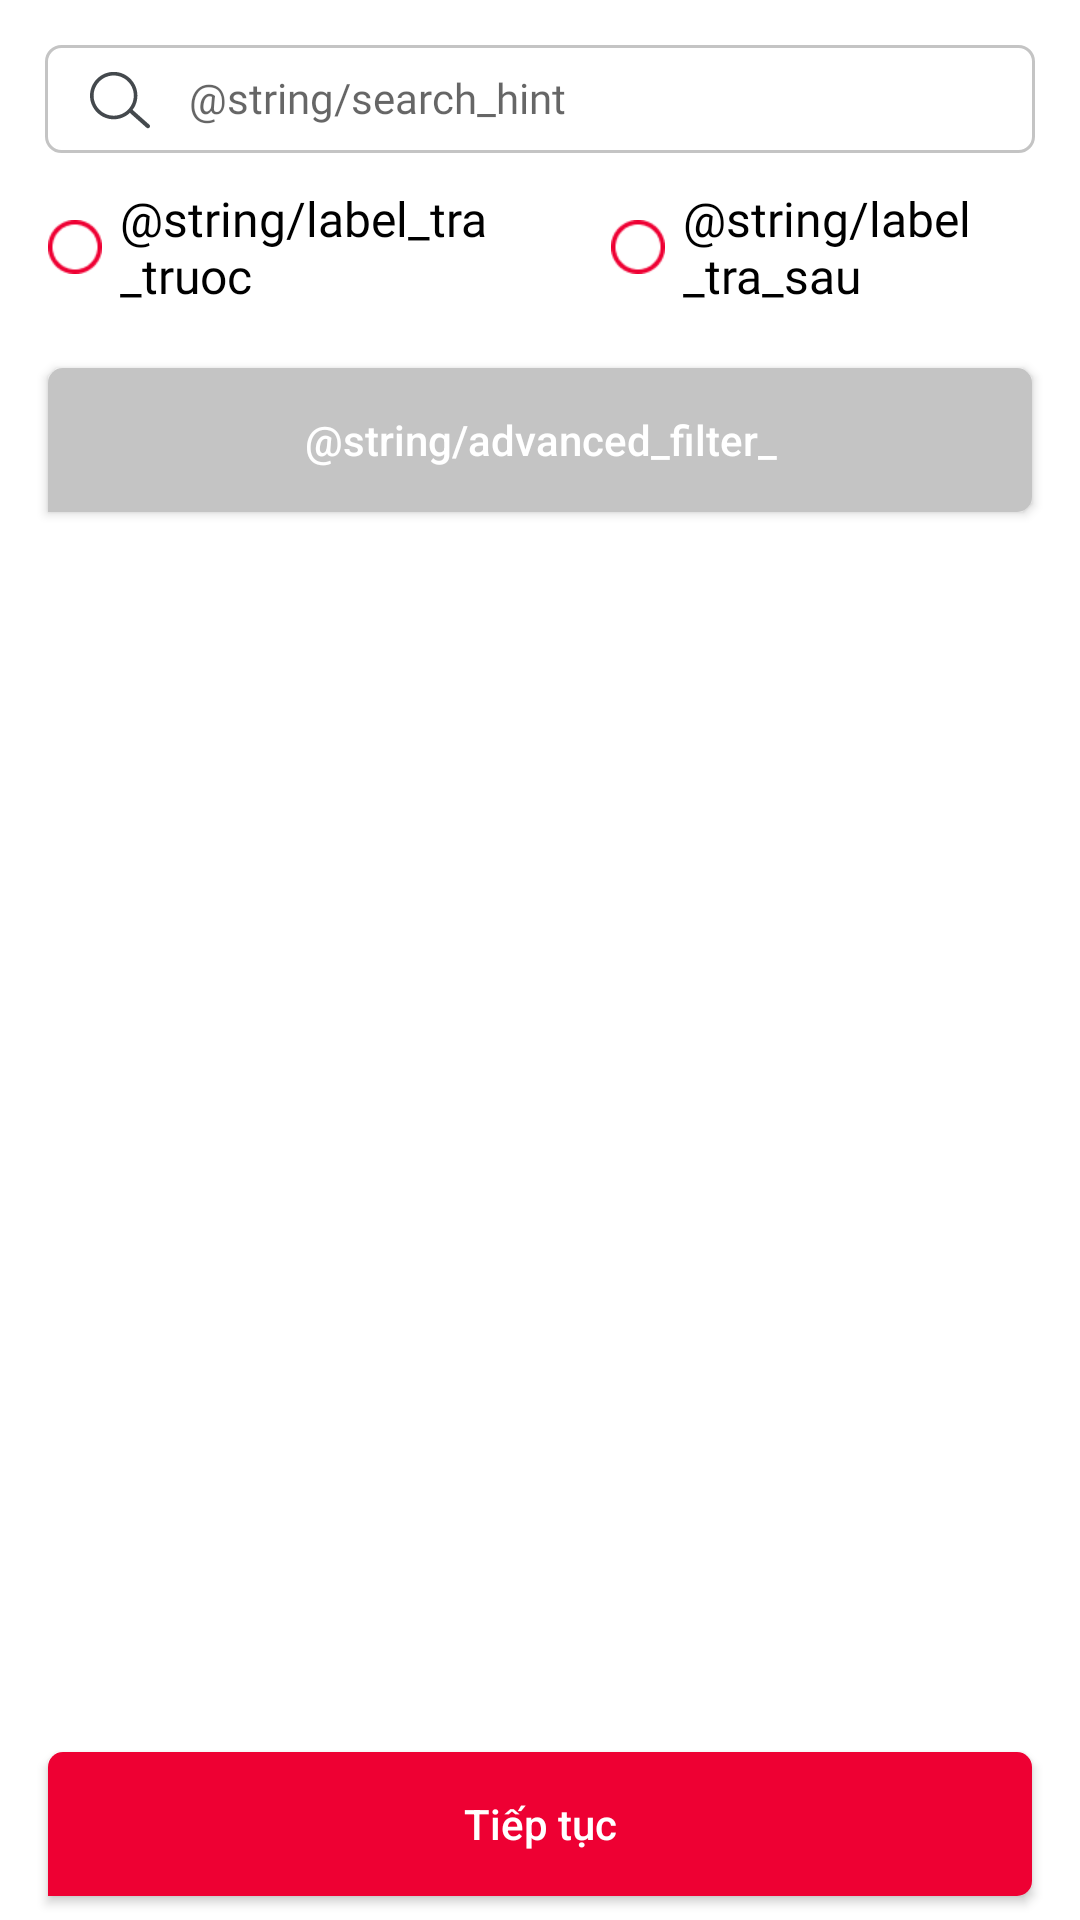

Screen size 1080 x 1920. Icon name, then its center in pixels as (x=x, y=y):
contact search: (x=120, y=100)
radio: (x=75, y=247), (x=638, y=247)
